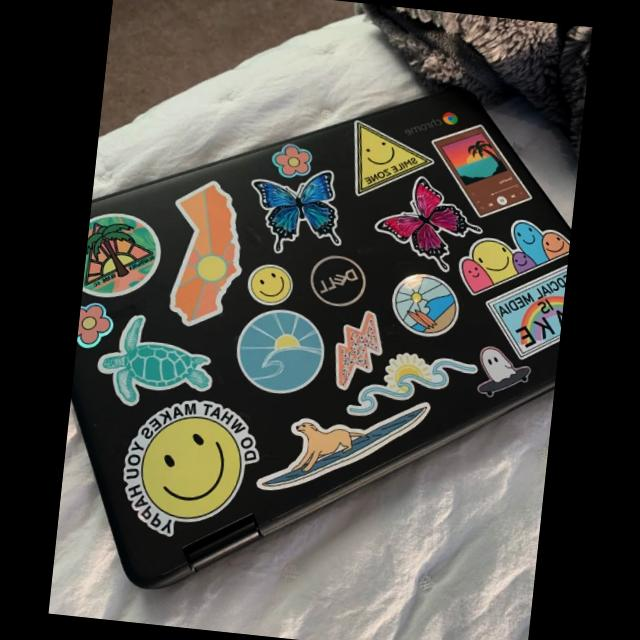laptop: (52, 42, 585, 626)
